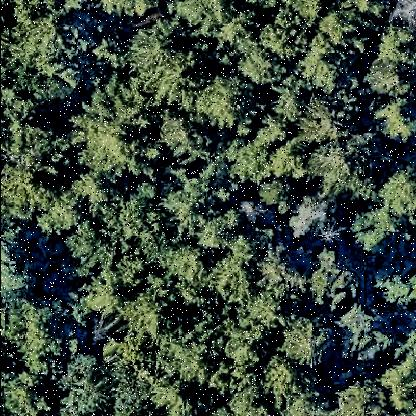tree-top: (76, 79, 162, 177), (1, 7, 78, 103), (101, 187, 173, 269), (307, 140, 379, 210), (157, 167, 231, 235), (15, 287, 68, 375), (132, 18, 200, 84), (201, 244, 261, 314), (115, 284, 176, 350), (161, 318, 219, 386), (193, 73, 253, 135), (158, 110, 218, 172), (305, 245, 363, 309), (66, 351, 122, 416), (224, 306, 278, 372), (1, 128, 77, 174), (298, 91, 358, 149), (170, 1, 247, 46), (377, 332, 416, 416), (337, 302, 389, 364), (156, 244, 207, 305), (284, 192, 339, 248), (298, 38, 352, 94), (261, 358, 315, 412), (226, 134, 278, 188), (281, 314, 329, 372), (318, 4, 376, 52), (236, 41, 292, 90), (38, 183, 87, 238), (261, 14, 314, 63), (1, 166, 44, 224), (331, 372, 387, 416), (195, 207, 241, 260), (109, 357, 149, 416), (256, 249, 307, 295), (373, 263, 416, 316), (2, 370, 51, 416), (371, 97, 416, 147), (377, 166, 416, 223), (360, 56, 412, 98), (353, 210, 399, 254), (150, 373, 195, 416), (215, 380, 265, 416), (373, 24, 416, 64), (65, 222, 104, 264), (89, 33, 126, 73), (96, 1, 160, 22), (391, 1, 416, 35)
